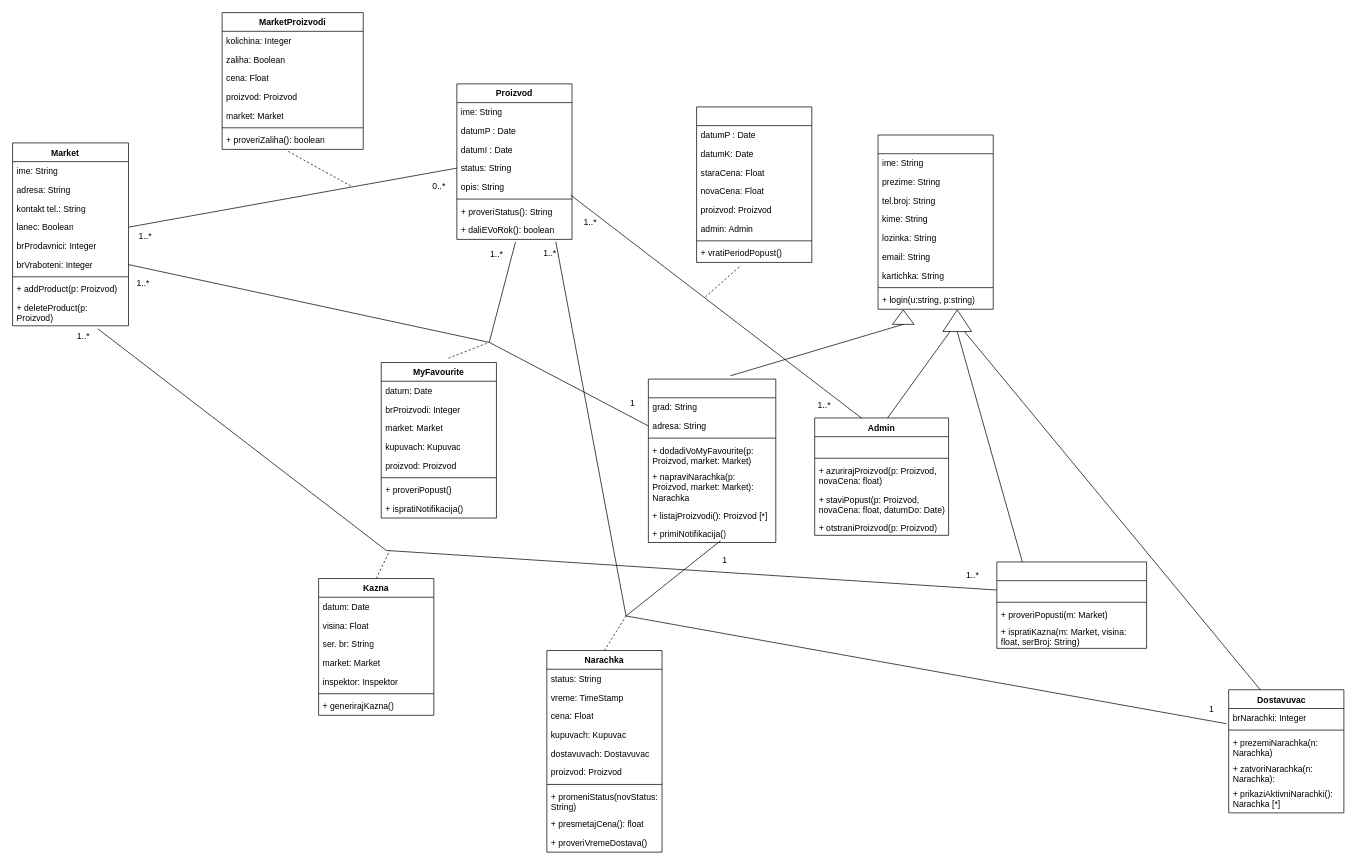
Some shapes in this 1356 by 867 pixel diagram are drawn without their labels. Each missing label, with the box of its shape:
Azhuriranje: (696, 106, 812, 262)
Inspektor: (996, 561, 1147, 648)
Korisnik: (877, 134, 993, 309)
Kupuvac: (648, 378, 776, 543)
